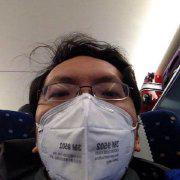OK: (39, 73, 138, 176)
